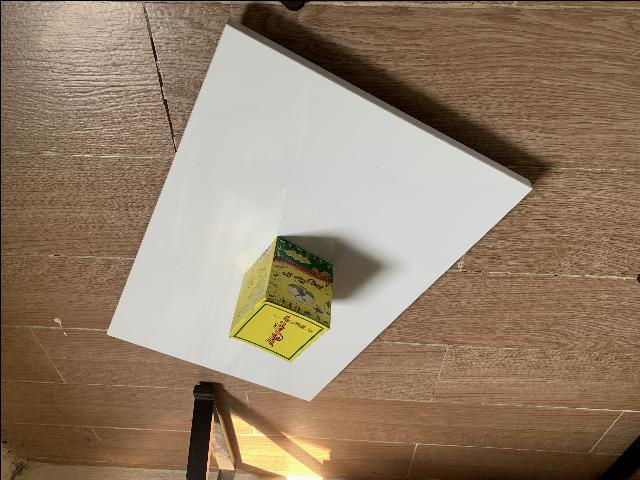luong_kho: (228, 235, 334, 360)
